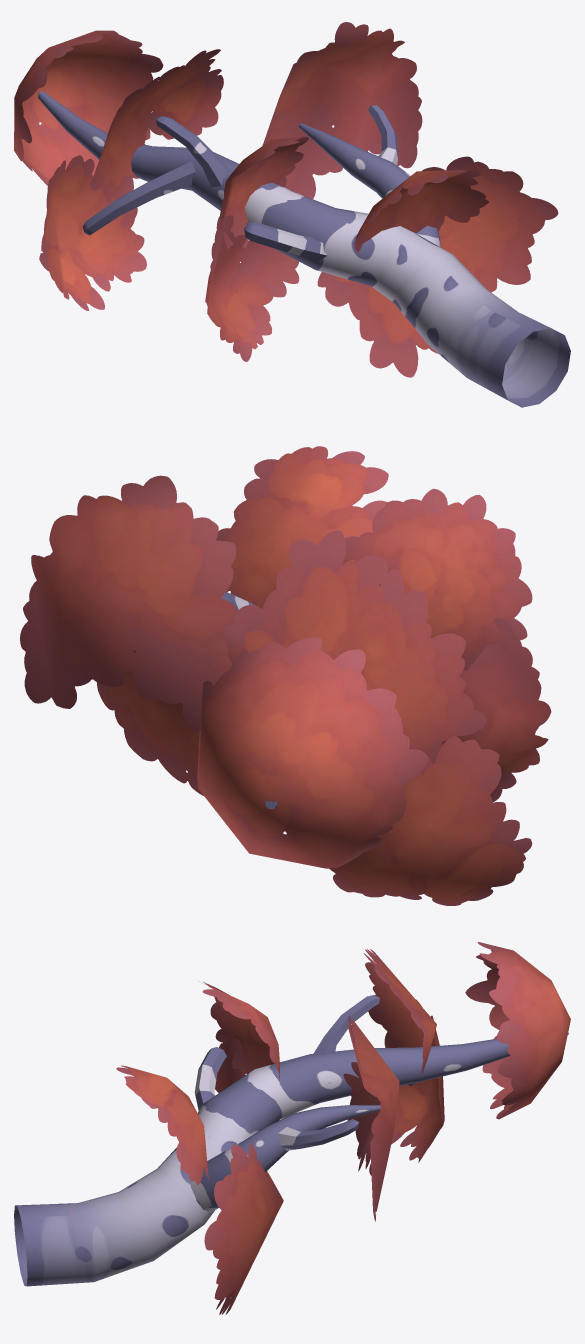
File: Birchtree_02_Red (1).fbx
3 renders of one model, top to bottom at view 1: azimuth 30°, elevation 25°; view 2: azimuth 150°, elevation 25°; view 3: azimuth 270°, elevation 25°, orthographic. The views are drawn at different scales.
Visible parts, largest first — view 1: Foliage_02, Trunk_02; view 2: Foliage_02; view 3: Foliage_02, Trunk_02.
Part boxes in pixels (box(x1,y1,x2,y2)): Foliage_02: box(14, 22, 558, 377); Trunk_02: box(38, 91, 570, 407); Foliage_02: box(20, 446, 551, 905); Foliage_02: box(116, 942, 570, 1314); Trunk_02: box(14, 995, 568, 1286).
Size of the model in its own units: 1203 by 861 by 1357.
